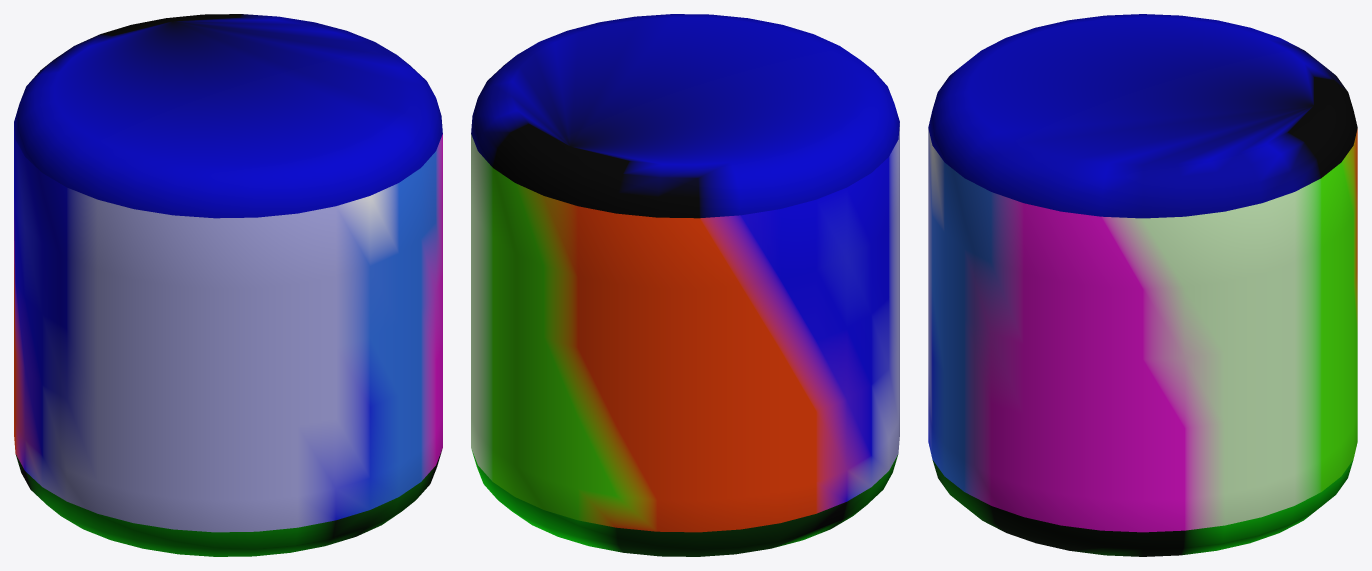
The model's file is simple_multisurface_vcolor.obj.
The picture shows the model from 3 angles, left to right: view 1: azimuth 30°, elevation 25°; view 2: azimuth 150°, elevation 25°; view 3: azimuth 270°, elevation 25°; orthographic projection.
Visible parts, largest first — view 1: Cylinder; view 2: Cylinder; view 3: Cylinder.
Boxes of the visible parts, bbox=[...] form: Cylinder: bbox=[14, 14, 442, 556]; Cylinder: bbox=[471, 14, 899, 556]; Cylinder: bbox=[928, 14, 1357, 556].
Bounding box in the file's own units: 2 × 2 × 2.
